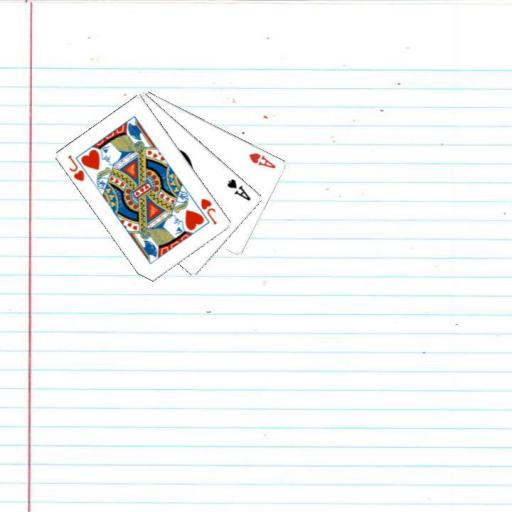AH: (246, 149, 277, 170)
AS: (224, 176, 252, 202)
JH: (65, 151, 86, 183), (198, 195, 219, 226)
